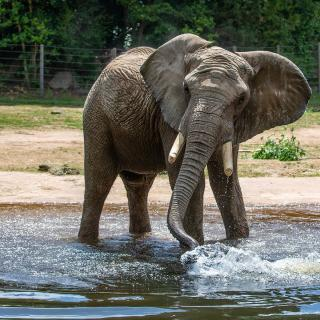Elephant: (73, 29, 320, 270)
